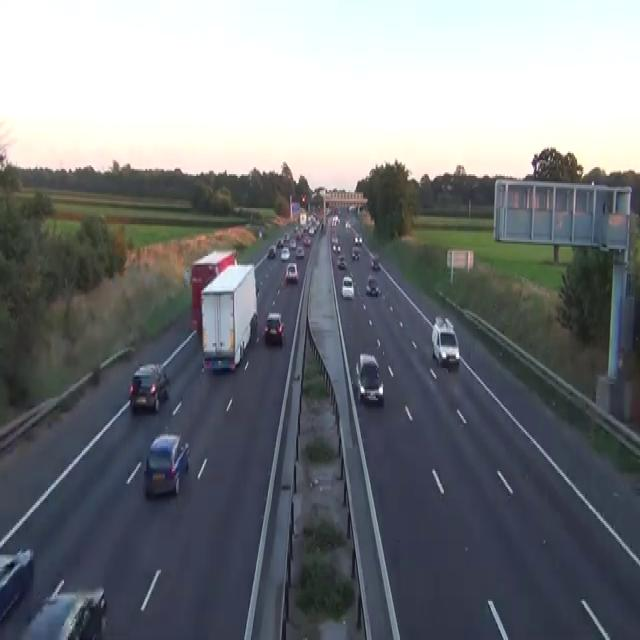Car: (17, 578, 107, 638), (143, 432, 190, 498), (0, 546, 34, 620), (129, 362, 169, 412), (355, 352, 384, 404), (431, 315, 460, 366), (263, 311, 284, 345), (433, 314, 454, 330), (341, 276, 354, 298), (285, 261, 298, 283), (365, 276, 380, 295), (183, 267, 191, 286), (280, 247, 290, 260), (351, 246, 359, 262), (337, 254, 346, 268), (295, 245, 304, 258), (331, 237, 340, 250), (331, 213, 340, 226), (371, 256, 380, 268), (267, 245, 275, 258), (441, 182, 454, 190), (354, 235, 362, 245), (289, 238, 296, 249), (308, 224, 315, 235), (347, 204, 356, 212), (303, 235, 310, 245), (277, 238, 283, 249), (283, 231, 289, 242), (331, 234, 338, 243), (282, 237, 289, 246), (293, 224, 299, 233), (302, 224, 308, 233), (326, 206, 331, 215), (345, 220, 350, 228), (301, 194, 306, 202), (336, 244, 341, 252), (358, 234, 362, 243), (258, 230, 262, 238)
Truck: (200, 263, 258, 372), (190, 247, 237, 334)
